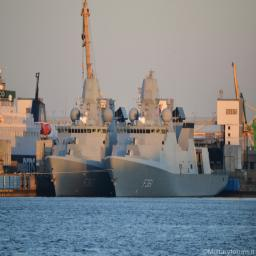Fragata: (107, 67, 231, 199), (45, 61, 110, 200)
